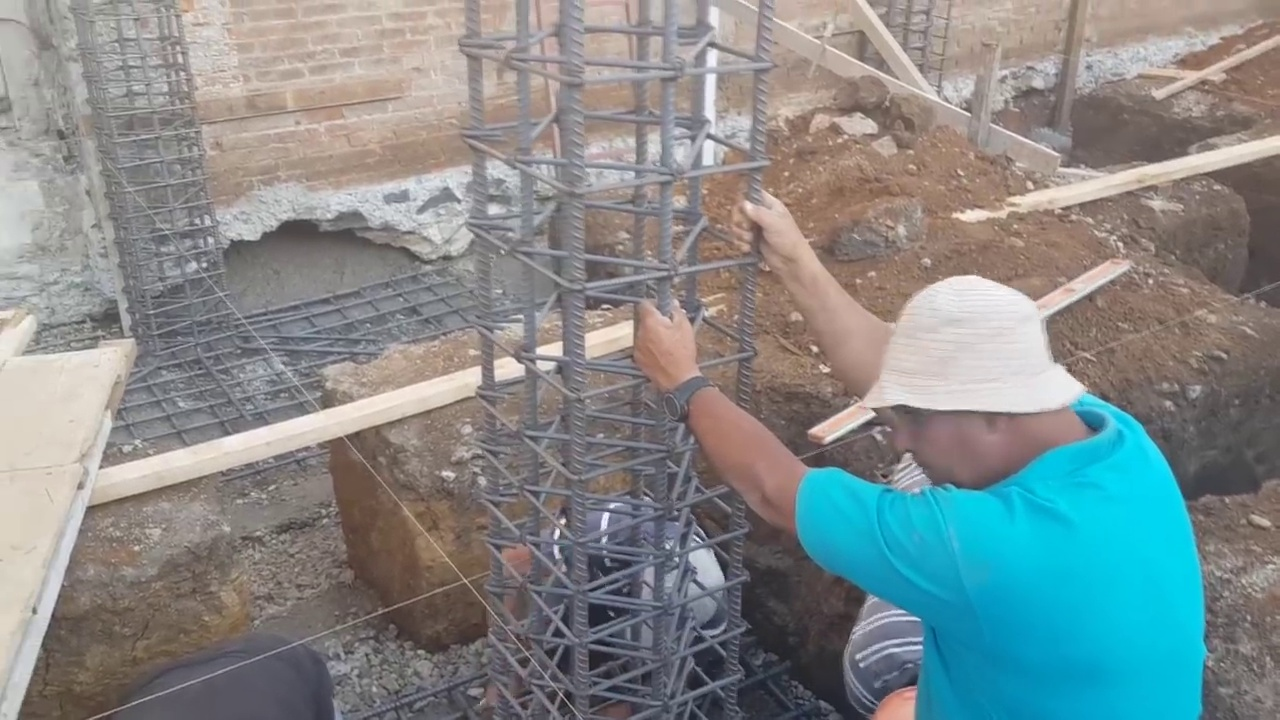helmet-off: (865, 272, 1112, 492)
person: (632, 182, 1207, 719)
